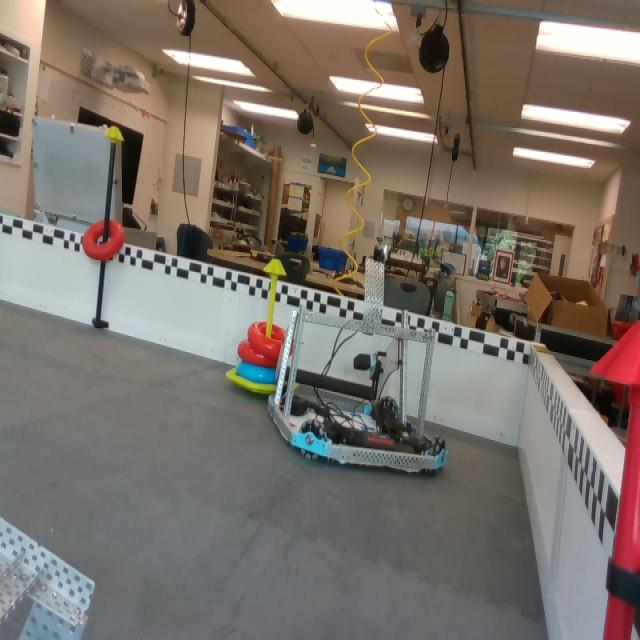Blue-Ring: (236, 361, 277, 385)
Mobile-Goal: (226, 256, 288, 391)
Red-Ring: (80, 218, 126, 262), (247, 321, 285, 359), (237, 340, 279, 368)
Yellow-Stake-Head: (264, 258, 286, 276), (104, 126, 124, 141)
zred-Stake-Head: (589, 319, 640, 387)
